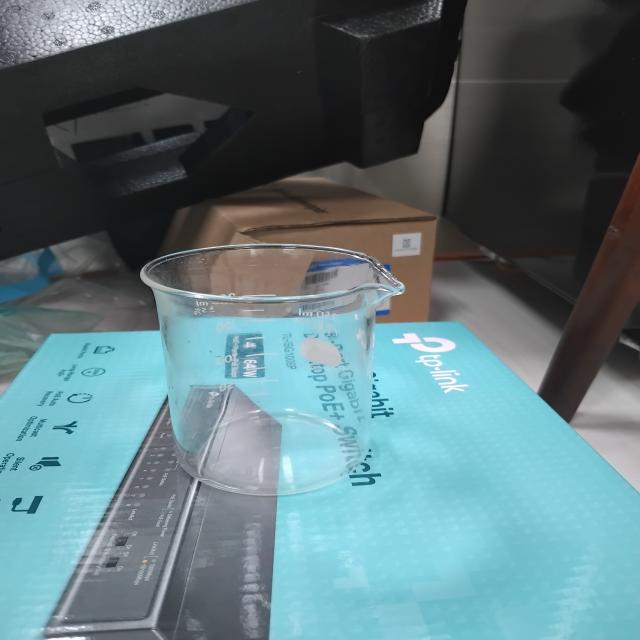Beaker: (92, 191, 417, 526)
